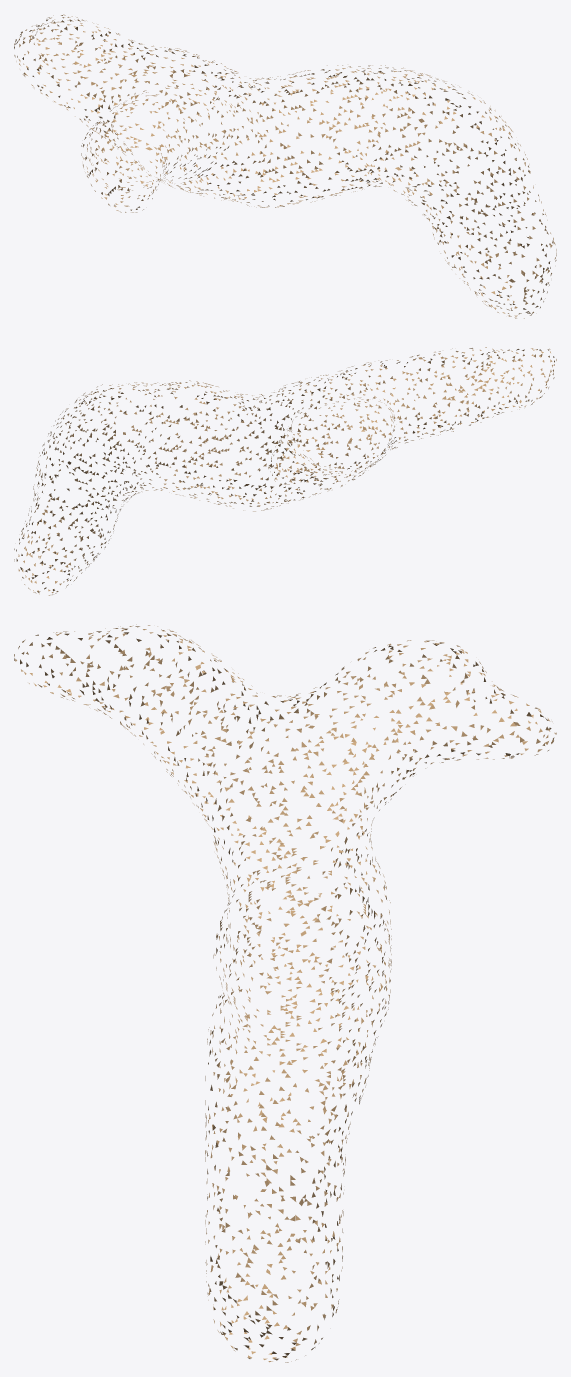
Rendered from morph_006.glb.
3 views of the same model, one above another, from view 1: azimuth 30°, elevation 25°; view 2: azimuth 150°, elevation 25°; view 3: azimuth 270°, elevation 25° (orthographic). The views are drawn at different scales.
Size of the model in its own units: 98.85 by 63.24 by 68.65.
